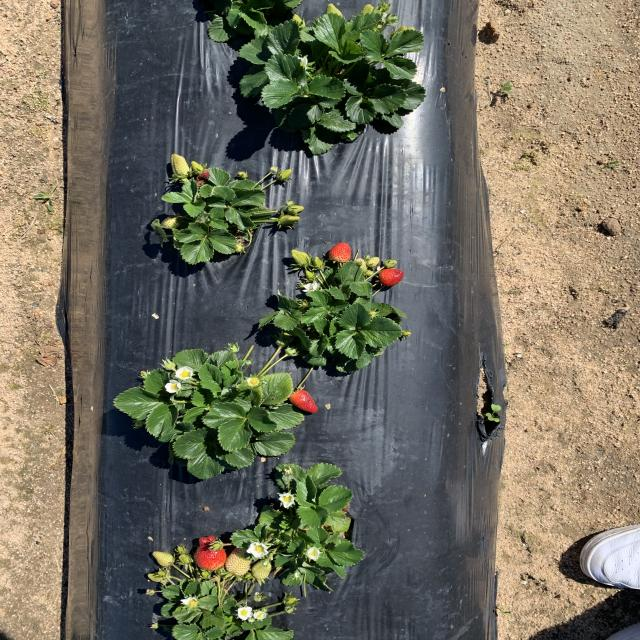unripe: (195, 536, 227, 570), (290, 390, 319, 414), (377, 268, 406, 286), (329, 242, 352, 262)
